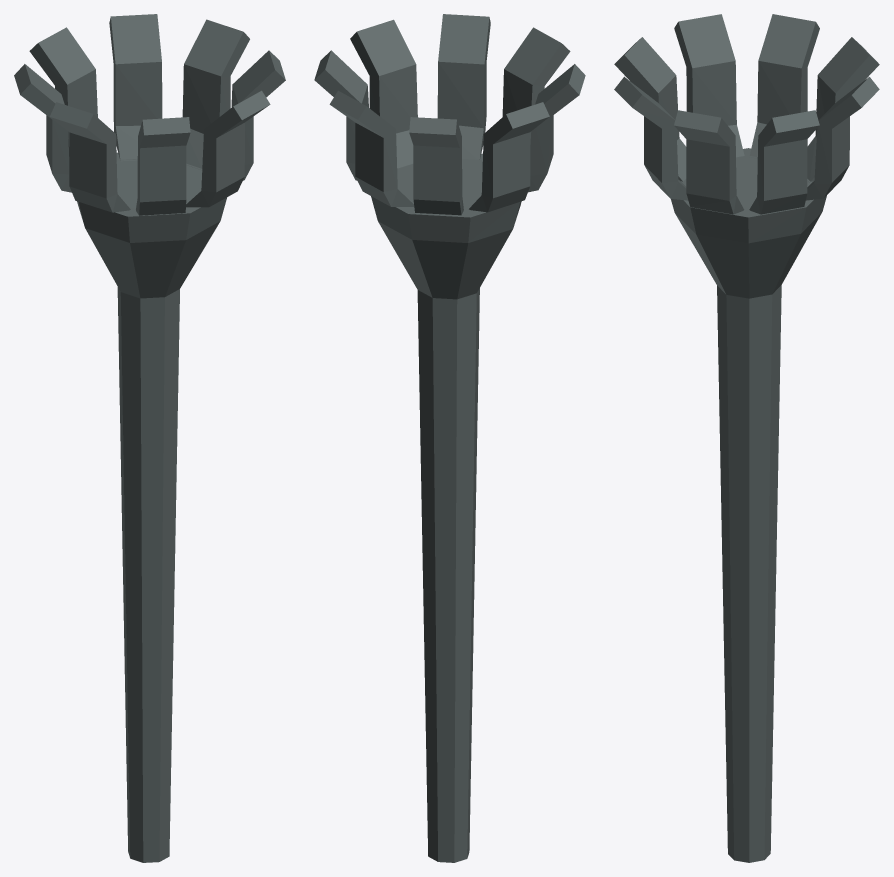
File: ZLP_Build_D_28.FBX
The picture shows the model from 3 angles, left to right: view 1: azimuth 30°, elevation 25°; view 2: azimuth 150°, elevation 25°; view 3: azimuth 270°, elevation 25°; orthographic projection.
Parts seen in each view (by area): view 1: ZLP_Build_D_28; view 2: ZLP_Build_D_28; view 3: ZLP_Build_D_28.
Part boxes in pixels (x1,y1,x2,y2): ZLP_Build_D_28: (14,14,285,862); ZLP_Build_D_28: (314,14,585,862); ZLP_Build_D_28: (614,14,879,862).
Size of the model in its own units: 41.83 by 137 by 41.83.
